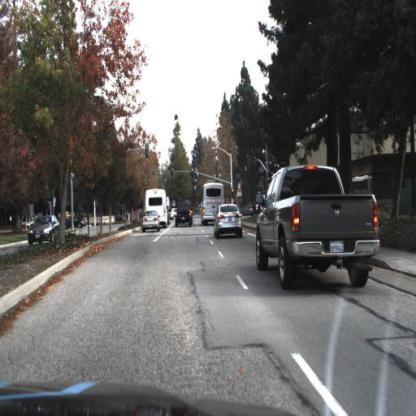car: (256, 162, 384, 281), (27, 213, 64, 245), (214, 203, 245, 239), (173, 203, 195, 228), (141, 210, 161, 234)
truck: (200, 182, 226, 224), (147, 187, 169, 229)
